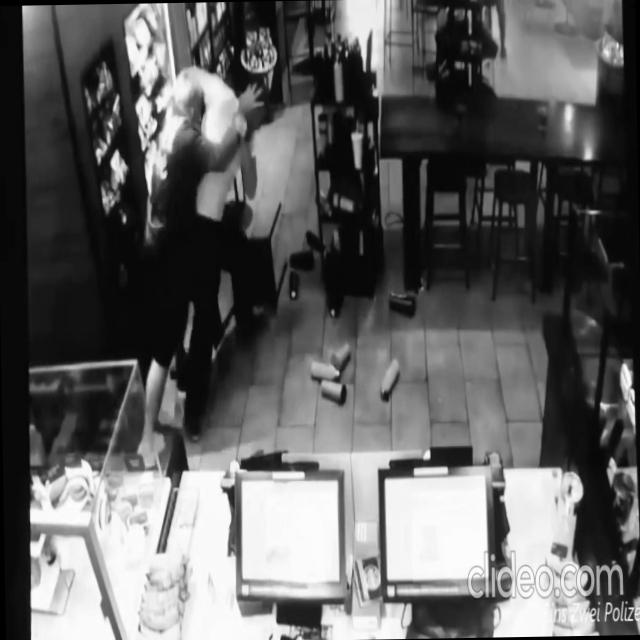gun: (148, 99, 166, 140)
person: (127, 65, 271, 470)
person with a gun: (148, 59, 272, 447)
